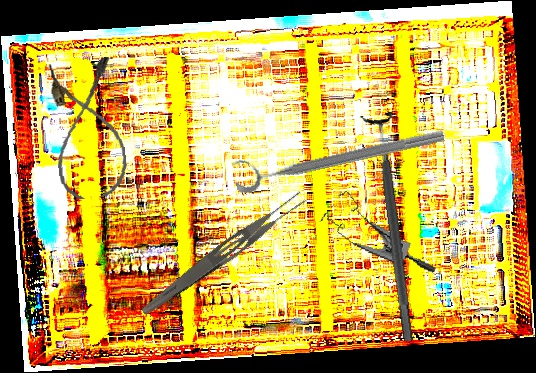Cannula: (45, 56, 131, 202)
Dressing Forceps: (138, 186, 310, 324)
Fixation Ring: (230, 112, 447, 196), (358, 111, 427, 344)
Speculum: (313, 185, 450, 276)
